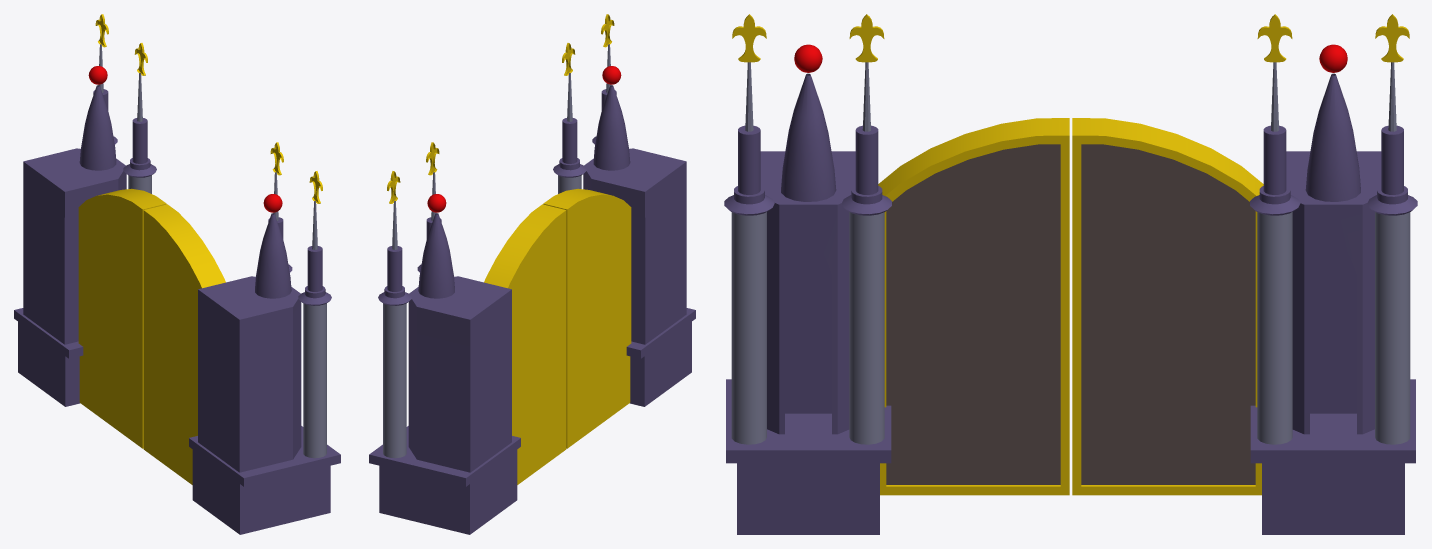
The model's file is Puerta_2.fbx.
The picture shows the model from 3 angles, left to right: view 1: azimuth 30°, elevation 25°; view 2: azimuth 150°, elevation 25°; view 3: azimuth 270°, elevation 25°; orthographic projection. The views are drawn at different scales.
Visible parts, largest first — view 1: _Marco_Left, _Right, _Left; view 2: _Marco_Left, _Left, _Right; view 3: _Marco_Left, _Left, _Right.
Part boxes in pixels (x1,y1,x2,y2): _Marco_Left: [14, 14, 340, 534]; _Right: [78, 188, 166, 448]; _Left: [143, 204, 225, 484]; _Marco_Left: [369, 14, 695, 534]; _Left: [543, 188, 631, 448]; _Right: [484, 204, 566, 484]; _Marco_Left: [724, 14, 1417, 534]; _Left: [878, 118, 1069, 495]; _Right: [1072, 118, 1263, 495].
Bounding box in the file's own units: 204 × 685 × 839.
